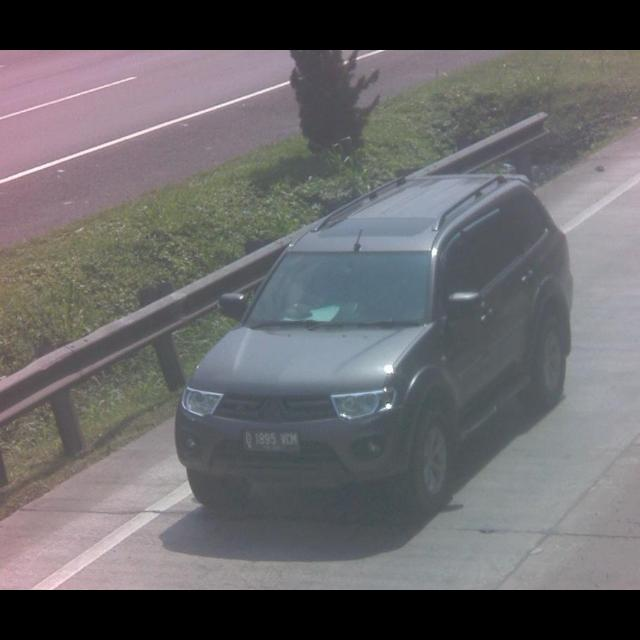plate: (240, 430, 300, 454)
